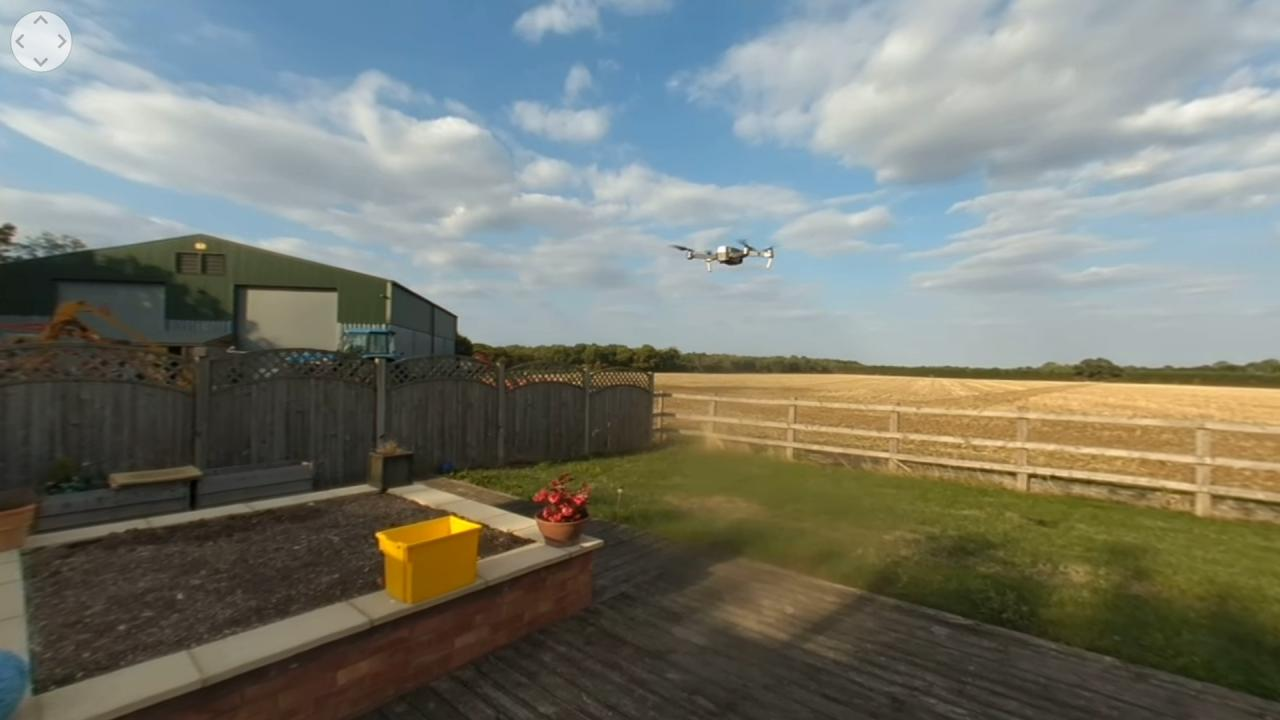Drone: (659, 230, 785, 277)
